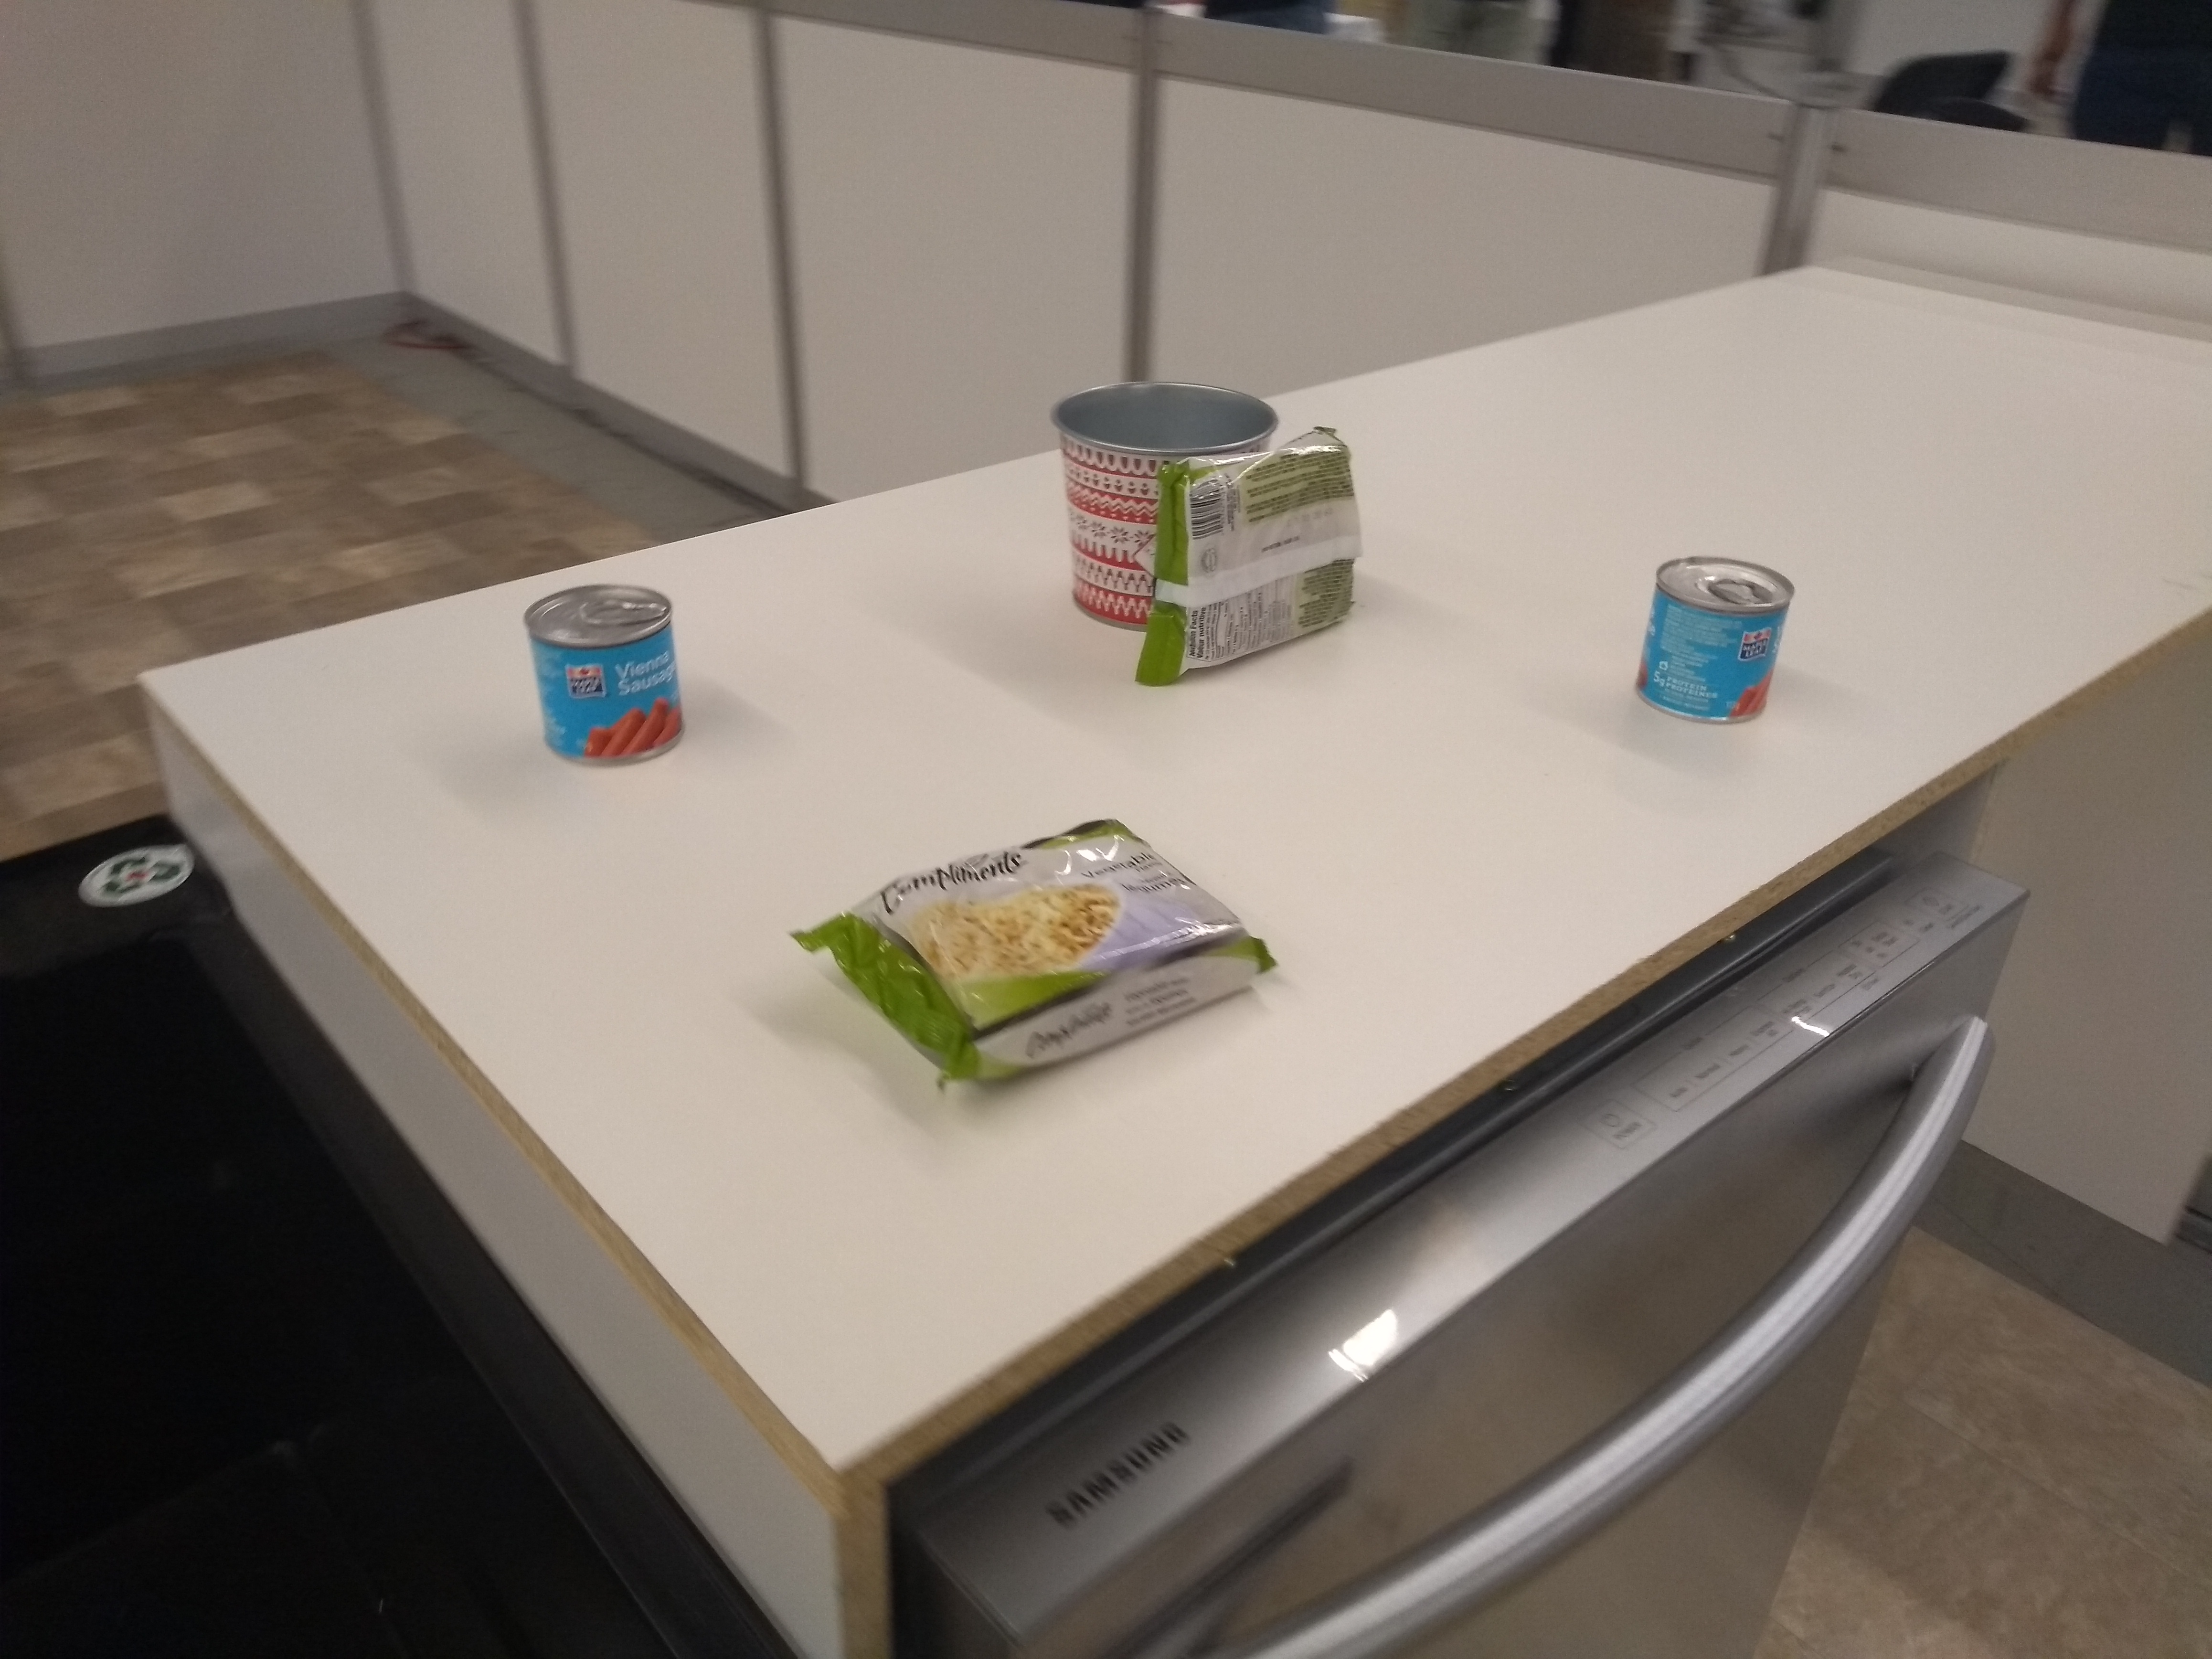noodles: (772, 796, 1305, 1112), (1120, 415, 1376, 704)
sausages: (516, 570, 695, 788), (1629, 552, 1799, 732)
